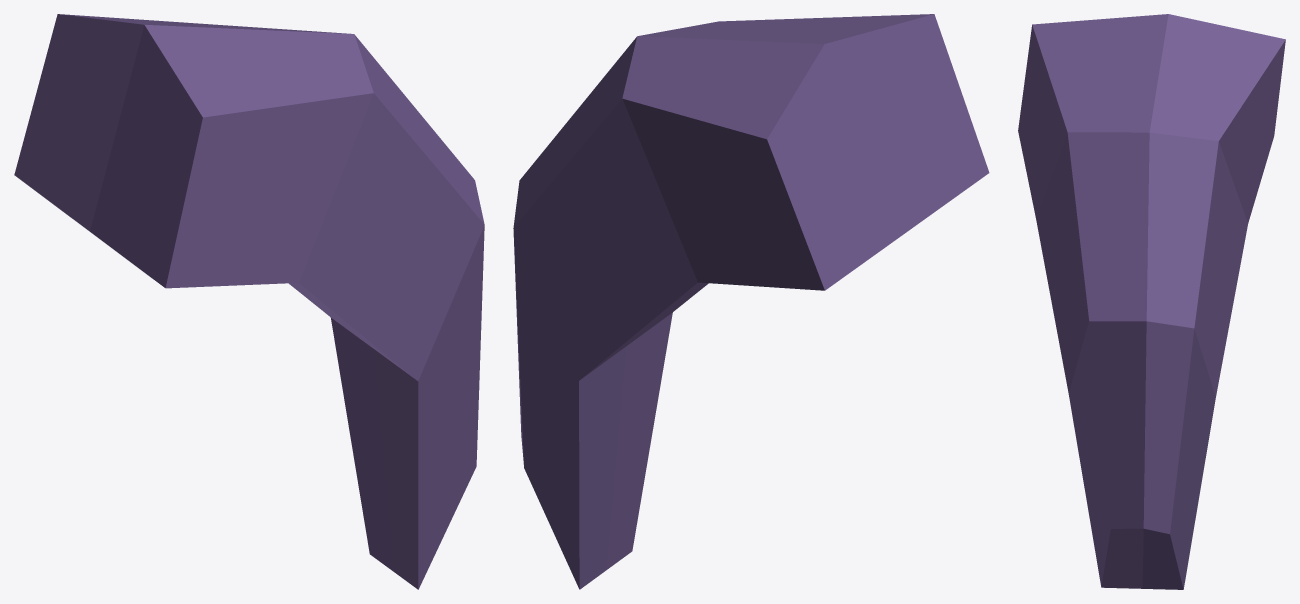
File: beetle_corpse_leg_left.glb
3 views of the same model, side by side, from view 1: azimuth 30°, elevation 25°; view 2: azimuth 150°, elevation 25°; view 3: azimuth 270°, elevation 25° (orthographic). The views are drawn at different scales.
Visible parts, largest first — view 1: BeetleCorpseLegLeft; view 2: BeetleCorpseLegLeft; view 3: BeetleCorpseLegLeft.
Part boxes in pixels (x1,y1,x2,y2): BeetleCorpseLegLeft: [14, 14, 484, 589]; BeetleCorpseLegLeft: [513, 14, 989, 589]; BeetleCorpseLegLeft: [1018, 14, 1285, 589].
Size of the model in its own units: 0.2414 by 0.3524 by 0.1772.
1 material, 1 textured.
